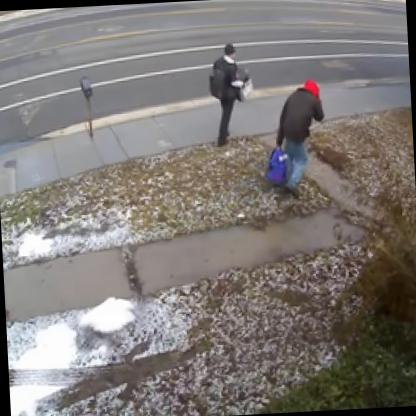Human Body: (258, 70, 336, 202), (199, 34, 255, 150)
